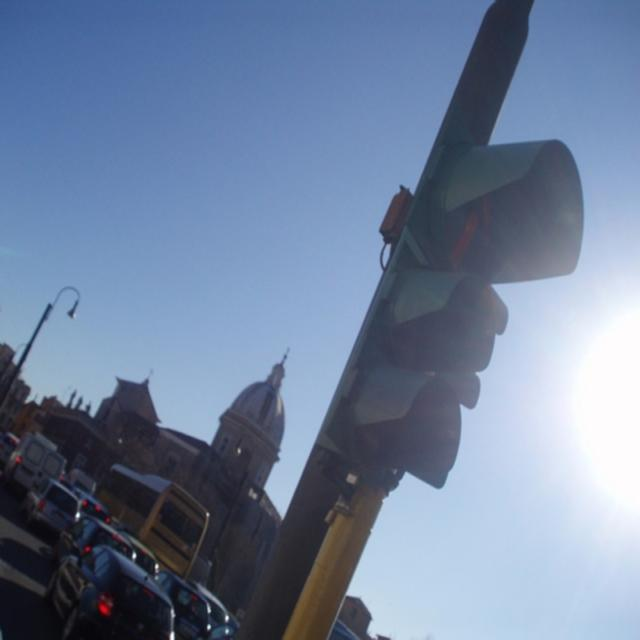bus: (95, 460, 209, 580)
car: (47, 548, 169, 627), (145, 568, 211, 639), (53, 513, 136, 564), (0, 431, 65, 492), (19, 476, 77, 535), (185, 577, 240, 631), (108, 530, 159, 578), (70, 485, 109, 524), (59, 467, 95, 493), (0, 429, 17, 463)
